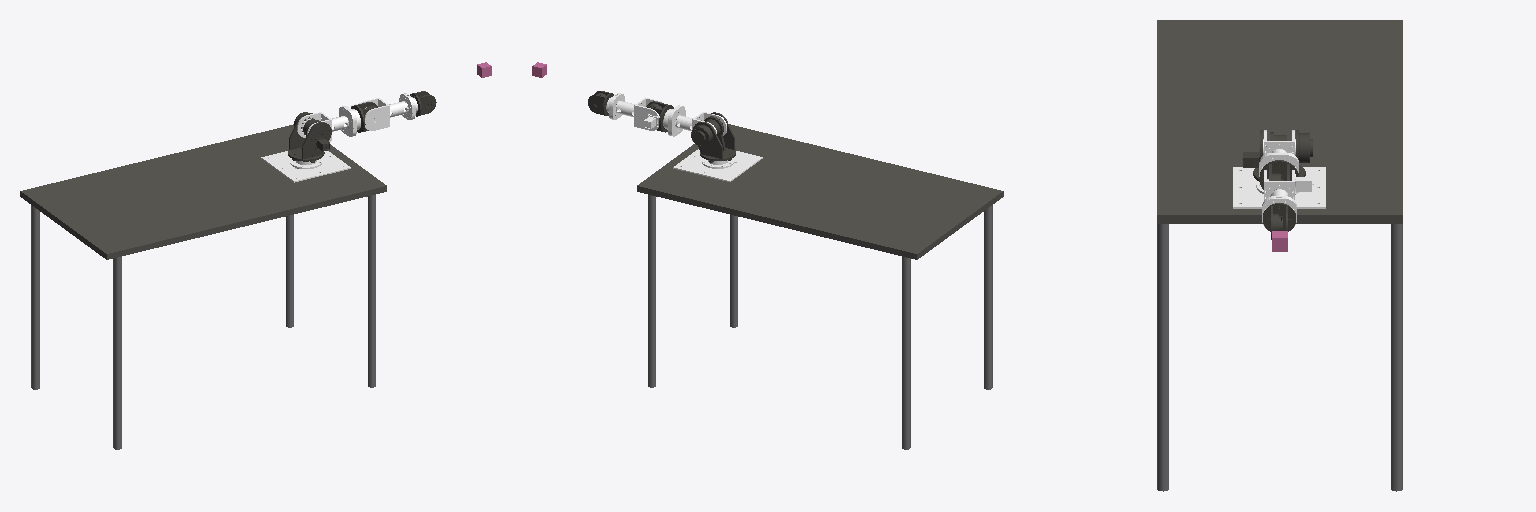
The robot description file, URDF, robot "daadbot":
<?xml version='1.0' encoding='utf-8'?>
<robot name="daadbot">
  <gazebo>
    <plugin filename="gz_ros2_control-system" name="gz_ros2_control::GazeboSimROS2ControlPlugin">
      <parameters>/home/maryammahmood/daadbot_manipulator_ws/install/daadbot_controller/share/daadbot_controller/config/pos_trajectory_controller.yaml</parameters>
    </plugin>
    <plugin filename="ignition-gazebo-forcetorque-system" name="ignition::gazebo::systems::ForceTorque">
            </plugin>
  </gazebo>
  <ros2_control name="Manipulator" type="system">
    <hardware>
      <plugin>gz_ros2_control/GazeboSimSystem</plugin>
    </hardware>
    <joint name="joint_1">
      <command_interface name="position">
        <param name="min">-0.1</param>
        <param name="max">3.2</param>
      </command_interface>
      <state_interface name="position" />
      <state_interface name="velocity" />
      <state_interface name="effort" />
    </joint>
    <joint name="joint_2">
      <command_interface name="position">
        <param name="min">-3.307</param>
        <param name="max">0.5236</param>
      </command_interface>
      <state_interface name="position" />
      <state_interface name="velocity" />
      <state_interface name="effort" />
    </joint>
    <joint name="joint_3">
      <command_interface name="position">
        <param name="min">-0.1</param>
        <param name="max">3.2</param>
      </command_interface>
      <state_interface name="position" />
      <state_interface name="velocity" />
      <state_interface name="effort" />
    </joint>
    <joint name="joint_4">
      <command_interface name="position">
        <param name="min">-1.9199</param>
        <param name="max">1.9199</param>
      </command_interface>
      <state_interface name="position" />
      <state_interface name="velocity" />
      <state_interface name="effort" />
    </joint>
    <joint name="joint_5">
      <command_interface name="position">
        <param name="min">-0.1</param>
        <param name="max">3.4</param>
      </command_interface>
      <state_interface name="position" />
      <state_interface name="velocity" />
      <state_interface name="effort" />
    </joint>
  </ros2_control>
  <link name="table_top">
    <visual>
      <origin xyz="0 0 1.0" />
      <geometry>
        <box size="1.5 0.8 0.03" />
      </geometry>
      <material name="">
        <color rgba="0.388 0.376 0.357 1" />
      </material>
    </visual>
    <collision>
      <origin xyz="0 0 1.0" />
      <geometry>
        <box size="1.5 0.8 0.03" />
      </geometry>
    </collision>
    <inertial>
      <origin xyz="0 0 1.0" />
      <mass value="5.0" />
      <inertia ixx="0.1" ixy="0" ixz="0" iyy="0.1" iyz="0" izz="0.1" />
    </inertial>
  </link>
  <gazebo reference="table_top">
    <static>true</static>
    <surface>
      <contact>
        <ode>
          <kp>100000.0</kp>
          <kd>1000.0</kd>
        </ode>
      </contact>
      <friction>
        <ode>
          <mu>1.0</mu>
          <mu2>1.0</mu2>
        </ode>
      </friction>
    </surface>
  </gazebo>
  <link name="front_left_leg">
    <visual>
      <origin xyz="0 0 0.5" />
      <geometry>
        <cylinder length="1.0" radius="0.02" />
      </geometry>
      <material name="">
        <color rgba="0.5 0.5 0.5 1" />
      </material>
    </visual>
    <collision>
      <origin xyz="0 0 0.5" />
      <geometry>
        <cylinder length="1.0" radius="0.02" />
      </geometry>
    </collision>
    <inertial>
      <origin xyz="0 0 0.5" />
      <mass value="1.0" />
      <inertia ixx="0.01" ixy="0" ixz="0" iyy="0.01" iyz="0" izz="0.01" />
    </inertial>
  </link>
  <joint name="front_left_leg_joint" type="fixed">
    <parent link="table_top" />
    <child link="front_left_leg" />
    <origin xyz="0.68 0.38 0.0" />
  </joint>
  <link name="front_right_leg">
    <visual>
      <origin xyz="0 0 0.5" />
      <geometry>
        <cylinder length="1.0" radius="0.02" />
      </geometry>
      <material name="">
        <color rgba="0.5 0.5 0.5 1" />
      </material>
    </visual>
    <collision>
      <origin xyz="0 0 0.5" />
      <geometry>
        <cylinder length="1.0" radius="0.02" />
      </geometry>
    </collision>
    <inertial>
      <origin xyz="0 0 0.5" />
      <mass value="1.0" />
      <inertia ixx="0.01" ixy="0" ixz="0" iyy="0.01" iyz="0" izz="0.01" />
    </inertial>
  </link>
  <joint name="front_right_leg_joint" type="fixed">
    <parent link="table_top" />
    <child link="front_right_leg" />
    <origin xyz="0.68 -0.38 0.0" />
  </joint>
  <link name="back_left_leg">
    <visual>
      <origin xyz="0 0 0.5" />
      <geometry>
        <cylinder length="1.0" radius="0.02" />
      </geometry>
      <material name="">
        <color rgba="0.5 0.5 0.5 1" />
      </material>
    </visual>
    <collision>
      <origin xyz="0 0 0.5" />
      <geometry>
        <cylinder length="1.0" radius="0.02" />
      </geometry>
    </collision>
    <inertial>
      <origin xyz="0 0 0.5" />
      <mass value="1.0" />
      <inertia ixx="0.01" ixy="0" ixz="0" iyy="0.01" iyz="0" izz="0.01" />
    </inertial>
  </link>
  <joint name="back_left_leg_joint" type="fixed">
    <parent link="table_top" />
    <child link="back_left_leg" />
    <origin xyz="-0.68 0.38 0.0" />
  </joint>
  <link name="back_right_leg">
    <visual>
      <origin xyz="0 0 0.5" />
      <geometry>
        <cylinder length="1.0" radius="0.02" />
      </geometry>
      <material name="">
        <color rgba="0.5 0.5 0.5 1" />
      </material>
    </visual>
    <collision>
      <origin xyz="0 0 0.5" />
      <geometry>
        <cylinder length="1.0" radius="0.02" />
      </geometry>
    </collision>
    <inertial>
      <origin xyz="0 0 0.5" />
      <mass value="1.0" />
      <inertia ixx="0.01" ixy="0" ixz="0" iyy="0.01" iyz="0" izz="0.01" />
    </inertial>
  </link>
  <joint name="back_right_leg_joint" type="fixed">
    <parent link="table_top" />
    <child link="back_right_leg" />
    <origin xyz="-0.68 -0.38 0.0" />
  </joint>
  <link name="world" />
  <joint name="table_joint" type="fixed">
    <parent link="world" />
    <child link="table_top" />
    <origin rpy="0 0 0" xyz="0 0 0" />
  </joint>
  <link name="camera_link">
    <visual>
      <geometry>
        <box size="0.05 0.05 0.05" />
      </geometry>
      <material name="" />
    </visual>
  </link>
  <joint name="camera_joint" type="fixed">
    <parent link="table_top" />
    <child link="camera_link" />
    <origin rpy="0 0 0" xyz="1.5 0.0 1.27" />
  </joint>
  <joint name="base_joint" type="fixed">
    <parent link="table_top" />
    <child link="base_link" />
    <origin rpy="0 0 0" xyz="0.55 0 1.017" />
  </joint>
  <link name="base_link">
    <inertial>
      <origin rpy="0 0 0" xyz="-0.00246645540256236 -0.00131466478904116 0.00320374562257973" />
      <mass value="6.91122989464636" />
      <inertia ixx="0.0466171750852481" ixy="0.00010076855342015" ixz="5.14819747192778E-08" iyy="0.0464821203083076" iyz="-1.44621889265211E-07" izz="0.0929840869855057" />
    </inertial>
    <visual>
      <origin rpy="0 0 0" xyz="0 0 0" />
      <geometry>
        <mesh filename="package://daadbot_desc/meshes/base_link.STL" />
      </geometry>
      <material name="">
        <color rgba="1 1 1 1" />
      </material>
    </visual>
    <collision>
      <origin rpy="0 0 0" xyz="0 0 0" />
      <geometry>
        <mesh filename="package://daadbot_desc/meshes/base_link.STL" />
      </geometry>
    </collision>
  </link>
  <link name="Link_1">
    <inertial>
      <origin rpy="0 0 0" xyz="0.0222146013900772 2.73568109690481E-06 0.0747841784291177" />
      <mass value="2.34948803406793" />
      <inertia ixx="0.00332922517000865" ixy="1.64875308454708E-07" ixz="-0.000433929392474112" iyy="0.00524724735039028" iyz="2.38505609352415E-07" izz="0.00419520671173006" />
    </inertial>
    <visual>
      <origin rpy="0 0 0" xyz="0 0 0" />
      <geometry>
        <mesh filename="package://daadbot_desc/meshes/Link_1.STL" />
      </geometry>
      <material name="">
        <color rgba="0.329 0.322 0.302 1" />
      </material>
    </visual>
    <collision>
      <origin rpy="0 0 0" xyz="0 0 0" />
      <geometry>
        <mesh filename="package://daadbot_desc/meshes/Link_1.STL" />
      </geometry>
    </collision>
  </link>
  <joint name="joint_1" type="revolute">
    <origin rpy="0 0 0" xyz="-0.0029638 -0.0015759 0.04796" />
    <parent link="base_link" />
    <child link="Link_1" />
    <axis xyz="0 0 -1" />
    <limit effort="200.0" lower="-0.1" upper="3.2" velocity="12.776" />
  </joint>
  <link name="daadbot/joint_1/tcp_fts_sensor_joint_1" />
  <joint name="tcp_fts_joint_1" type="fixed">
    <parent link="base_link" />
    <child link="daadbot/joint_1/tcp_fts_sensor_joint_1" />
    <origin rpy="0 0 0" xyz="-0.0029638 -0.0015759 0.04796" />
  </joint>
  <gazebo reference="joint_1">
    <sensor name="tcp_fts_sensor_joint_1" type="force_torque">
      <always_on>true</always_on>
      <update_rate>1000</update_rate>
      <visualize>true</visualize>
      <force_torque>
        <frame>child</frame>
        <measure_direction>child_to_parent</measure_direction>
      </force_torque>
      <pose>0 0 0 0 0 0</pose>
    </sensor>
  </gazebo>
  <link name="Link_2">
    <inertial>
      <origin rpy="0 0 0" xyz="0.121210588587965 0.000230649813345946 -0.049540637756618" />
      <mass value="2.24401700155026" />
      <inertia ixx="0.00250860362" ixy="-1.95804141e-05" ixz="1.06350024e-06" iyy="0.00852523380" iyz="4.22077320e-07" izz="0.00807927033" />
    </inertial>
    <visual>
      <origin rpy="0 0 0" xyz="0 0 0" />
      <geometry>
        <mesh filename="package://daadbot_desc/meshes/Link_2.STL" />
      </geometry>
      <material name="">
        <color rgba="1 1 1 1" />
      </material>
    </visual>
    <collision>
      <origin rpy="0 0 0" xyz="0 0 0" />
      <geometry>
        <mesh filename="package://daadbot_desc/meshes/Link_2.STL" />
      </geometry>
    </collision>
  </link>
  <joint name="joint_2" type="revolute">
    <origin rpy="1.5707963267949 0 0" xyz="0.0400000000000002 -0.050000000000002 0.114463048454132" />
    <parent link="Link_1" />
    <child link="Link_2" />
    <axis xyz="0 0 -1" />
    <limit effort="200.0" lower="-3.307" upper="0.5236" velocity="12.776" />
    <sensor name="force_torque" type="force_torque">
      <update_rate>30</update_rate>
    </sensor>
  </joint>
  <link name="daadbot/joint_2/tcp_fts_sensor_joint_2" />
  <joint name="tcp_fts_joint_2" type="fixed">
    <parent link="Link_1" />
    <child link="daadbot/joint_2/tcp_fts_sensor_joint_2" />
    <origin rpy="1.5707963267949 0 0" xyz="0.04 -0.05 0.114463048454132" />
  </joint>
  <gazebo reference="joint_2">
    <sensor name="tcp_fts_sensor_joint_2" type="force_torque">
      <always_on>true</always_on>
      <update_rate>100</update_rate>
      <visualize>false</visualize>
      <force_torque>
        <frame>child</frame>
        <measure_direction>child_to_parent</measure_direction>
      </force_torque>
      <pose>0 0 0 0 0 0</pose>
    </sensor>
  </gazebo>
  <link name="Link_3">
    <inertial>
      <origin rpy="0 0 0" xyz="-0.00448997206818821 -2.34751712904213E-05 0.0488571768392556" />
      <mass value="1.2718719681393" />
      <inertia ixx="0.00206983011422612" ixy="9.27500479472452E-08" ixz="3.38378548754623E-06" iyy="0.00129565231901482" iyz="2.88989653562542E-07" izz="0.00156994991003151" />
    </inertial>
    <visual>
      <origin rpy="0 0 0" xyz="0 0 0" />
      <geometry>
        <mesh filename="package://daadbot_desc/meshes/Link_3.STL" />
      </geometry>
      <material name="">
        <color rgba="0.329 0.322 0.302 1" />
      </material>
    </visual>
    <collision>
      <origin rpy="0 0 0" xyz="0 0 0" />
      <geometry>
        <mesh filename="package://daadbot_desc/meshes/Link_3.STL" />
      </geometry>
    </collision>
  </link>
  <joint name="joint_3" type="revolute">
    <origin rpy="0 1.5707963267949 0" xyz="0.234499999999998 0 -0.0495000000000002" />
    <parent link="Link_2" />
    <child link="Link_3" />
    <axis xyz="0 0 -1" />
    <limit effort="200.0" lower="-0.1" upper="3.2" velocity="12.776" />
  </joint>
  <link name="daadbot/joint_3/tcp_fts_sensor_joint_3" />
  <joint name="tcp_fts_joint_3" type="fixed">
    <parent link="Link_2" />
    <child link="daadbot/joint_3/tcp_fts_sensor_joint_3" />
    <origin rpy="0 1.5707963267949 0" xyz="0.234499999999998 0 -0.04950000000000022" />
  </joint>
  <gazebo reference="joint_3">
    <sensor name="tcp_fts_sensor_joint_3" type="force_torque">
      <always_on>true</always_on>
      <update_rate>1000</update_rate>
      <visualize>true</visualize>
      <force_torque>
        <frame>child</frame>
        <measure_direction>child_to_parent</measure_direction>
      </force_torque>
      <pose>0 0 0 0 0 0</pose>
    </sensor>
  </gazebo>
  <link name="Link_4">
    <inertial>
      <origin rpy="0 0 0" xyz="-0.119169680650385 -0.000128811902195713 0.0378163924527294" />
      <mass value="2.67615775175726" />
      <inertia ixx="0.00308017562479927" ixy="2.47453551729311E-06" ixz="-7.09348932448939E-07" iyy="0.00238129778603005" iyz="-7.47320677385655E-07" izz="0.00293128138362422" />
    </inertial>
    <visual>
      <origin rpy="0 0 0" xyz="0 0 0" />
      <geometry>
        <mesh filename="package://daadbot_desc/meshes/Link_4.STL" />
      </geometry>
      <material name="">
        <color rgba="1 1 1 1" />
      </material>
    </visual>
    <collision>
      <origin rpy="0 0 0" xyz="0 0 0" />
      <geometry>
        <mesh filename="package://daadbot_desc/meshes/Link_4.STL" />
      </geometry>
    </collision>
  </link>
  <joint name="joint_4" type="revolute">
    <origin rpy="0 1.5707963267949 0" xyz="-0.0324999999999996 0 0.0750000000000004" />
    <parent link="Link_3" />
    <child link="Link_4" />
    <axis xyz="0 0 -1" />
    <limit effort="200.0" lower="-1.9199" upper="1.9199" velocity="12.77581" />
  </joint>
  <link name="daadbot/joint_4/tcp_fts_sensor_joint_4" />
  <joint name="tcp_fts_joint_4" type="fixed">
    <parent link="Link_3" />
    <child link="daadbot/joint_4/tcp_fts_sensor_joint_4" />
    <origin rpy="0 1.5707963267949 0" xyz="-0.0324999999999996 0 0.0750000000000004" />
  </joint>
  <gazebo reference="joint_4">
    <sensor name="tcp_fts_sensor_joint_4" type="force_torque">
      <always_on>true</always_on>
      <update_rate>1000</update_rate>
      <visualize>true</visualize>
      <force_torque>
        <frame>child</frame>
        <measure_direction>child_to_parent</measure_direction>
      </force_torque>
      <pose>0 0 0 0 0 0</pose>
    </sensor>
  </gazebo>
  <link name="Link_5">
    <inertial>
      <origin rpy="0 0 0" xyz="0.00685541523757274 3.79292913340323E-05 0.0488580132405974" />
      <mass value="1.29018300951353" />
      <inertia ixx="0.00112308173661534" ixy="1.28316182440177E-06" ixz="-8.91005390036956E-07" iyy="0.000690097277055795" iyz="-3.23958303943101E-07" izz="0.000815216487439054" />
    </inertial>
    <visual>
      <origin rpy="0 0 0" xyz="0 0 0" />
      <geometry>
        <mesh filename="package://daadbot_desc/meshes/Link_5.STL" />
      </geometry>
      <material name="">
        <color rgba="0.329 0.322 0.302 1" />
      </material>
    </visual>
    <collision>
      <origin rpy="0 0 0" xyz="0 0 0" />
      <geometry>
        <mesh filename="package://daadbot_desc/meshes/Link_5.STL" />
      </geometry>
    </collision>
  </link>
  <joint name="joint_5" type="revolute">
    <origin rpy="3.14159265358979 1.5707963267949 0" xyz="-0.2284999036789 0 0.0330000000000004" />
    <parent link="Link_4" />
    <child link="Link_5" />
    <axis xyz="0 0 -1" />
    <limit effort="15" lower="-0.1" upper="3.4" velocity="19.896753" />
  </joint>
  <link name="daadbot/joint_5/tcp_fts_sensor_joint_5" />
  <joint name="tcp_fts_joint_5" type="fixed">
    <parent link="Link_4" />
    <child link="daadbot/joint_5/tcp_fts_sensor_joint_5" />
    <origin rpy="3.14159265358979 1.5707963267949 0" xyz="-0.2284999036789 0 0.0330000000000004" />
  </joint>
  <gazebo reference="joint_5">
    <sensor name="tcp_fts_sensor_joint_5" type="force_torque">
      <always_on>true</always_on>
      <update_rate>1000</update_rate>
      <visualize>true</visualize>
      <force_torque>
        <frame>child</frame>
        <measure_direction>child_to_parent</measure_direction>
      </force_torque>
      <pose>0 0 0 0 0 0</pose>
    </sensor>
  </gazebo>
</robot>

--- Render facts (derived) ---
3 views of the same robot in one strip: view 1: azimuth 30°, elevation 25°; view 2: azimuth 150°, elevation 25°; view 3: azimuth 270°, elevation 25° (orthographic).
Robot: daadbot — 18 links, 17 joints (5 revolute, 12 fixed); root link world; default pose: every joint at zero.
Links seen in each view (by area): view 1: table_top, back_right_leg, back_left_leg, front_right_leg, Link_1, base_link, Link_4, Link_2, front_left_leg; view 2: table_top, back_left_leg, back_right_leg, front_left_leg, Link_1, base_link, Link_4, front_right_leg, Link_2; view 3: table_top, front_left_leg, front_right_leg, base_link, Link_4, Link_1, Link_2, Link_5, Link_3.
Link boxes in pixels (<box>): table_top: <box>20,124,386,259</box>; back_right_leg: <box>113,257,121,449</box>; back_left_leg: <box>31,205,39,389</box>; front_right_leg: <box>368,195,375,387</box>; Link_1: <box>288,112,331,162</box>; base_link: <box>261,151,350,182</box>; Link_4: <box>351,93,417,130</box>; Link_2: <box>297,106,360,141</box>; front_left_leg: <box>286,215,293,327</box>; table_top: <box>637,124,1003,259</box>; back_left_leg: <box>902,257,910,449</box>; back_right_leg: <box>984,205,992,389</box>; front_left_leg: <box>648,195,655,387</box>; Link_1: <box>691,112,735,162</box>; base_link: <box>673,149,762,181</box>; Link_4: <box>606,93,664,130</box>; front_right_leg: <box>730,215,737,327</box>; Link_2: <box>663,105,726,140</box>; table_top: <box>1157,20,1402,223</box>; front_left_leg: <box>1391,224,1402,491</box>; front_right_leg: <box>1157,224,1168,491</box>; base_link: <box>1233,167,1325,208</box>; Link_4: <box>1262,170,1313,226</box>; Link_1: <box>1242,130,1312,181</box>; Link_2: <box>1259,130,1298,176</box>; Link_5: <box>1263,203,1295,239</box>; Link_3: <box>1259,160,1298,189</box>.
Bounding box of the posed robot: 2.27 × 0.8 × 1.29 m (x, y, z).
6 mesh visuals loaded from 6 distinct referenced files (6 binary STL).
